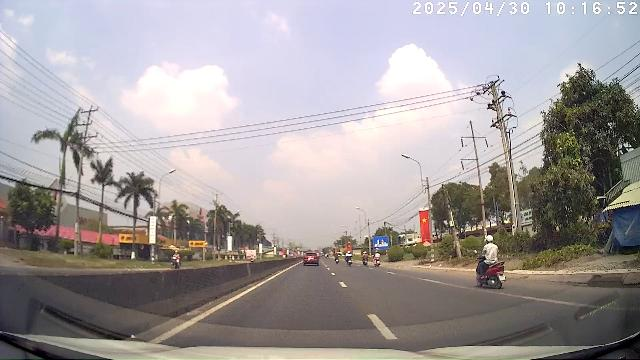421-ket-thuc-khu-dong-dan-cu: (374, 237, 388, 248)
